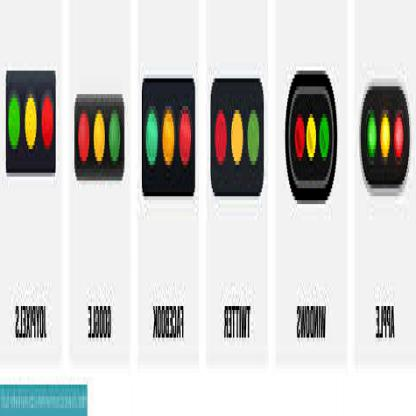traffic-light: (281, 75, 344, 204), (139, 71, 196, 208), (209, 71, 264, 204), (3, 74, 58, 188), (70, 82, 129, 188), (361, 83, 409, 200)
